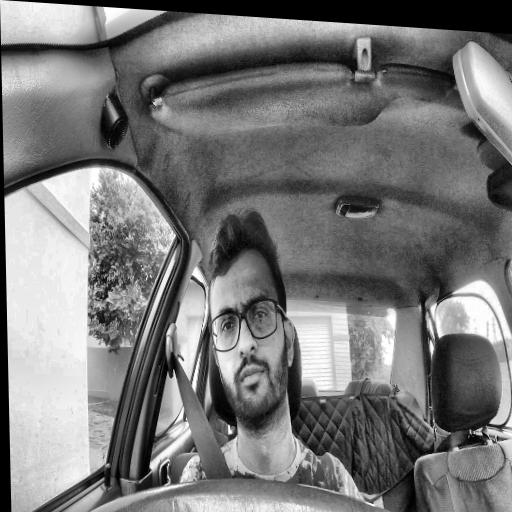awake: (204, 206, 297, 434)
